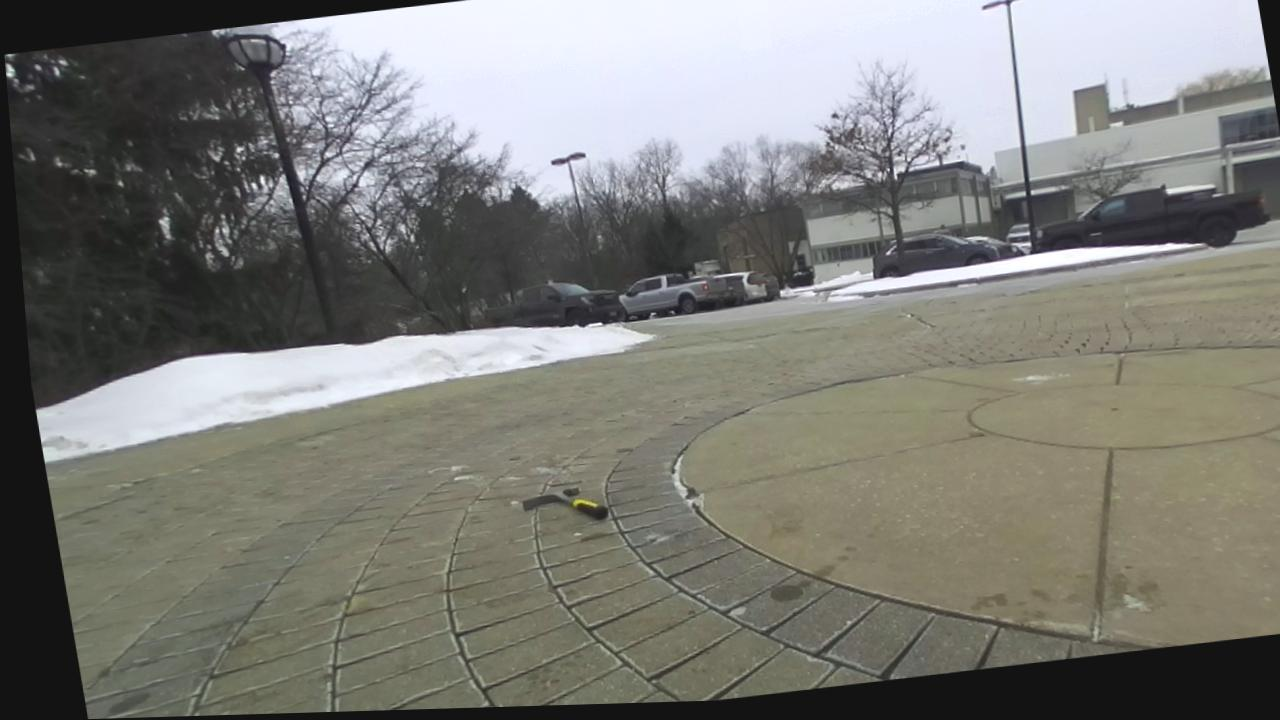pick: (521, 488, 608, 519)
